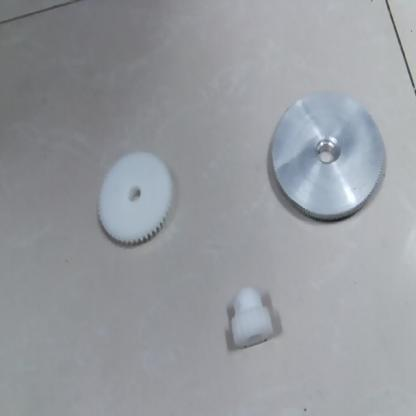FOD: (266, 91, 392, 224), (84, 153, 177, 255), (229, 276, 279, 360)
